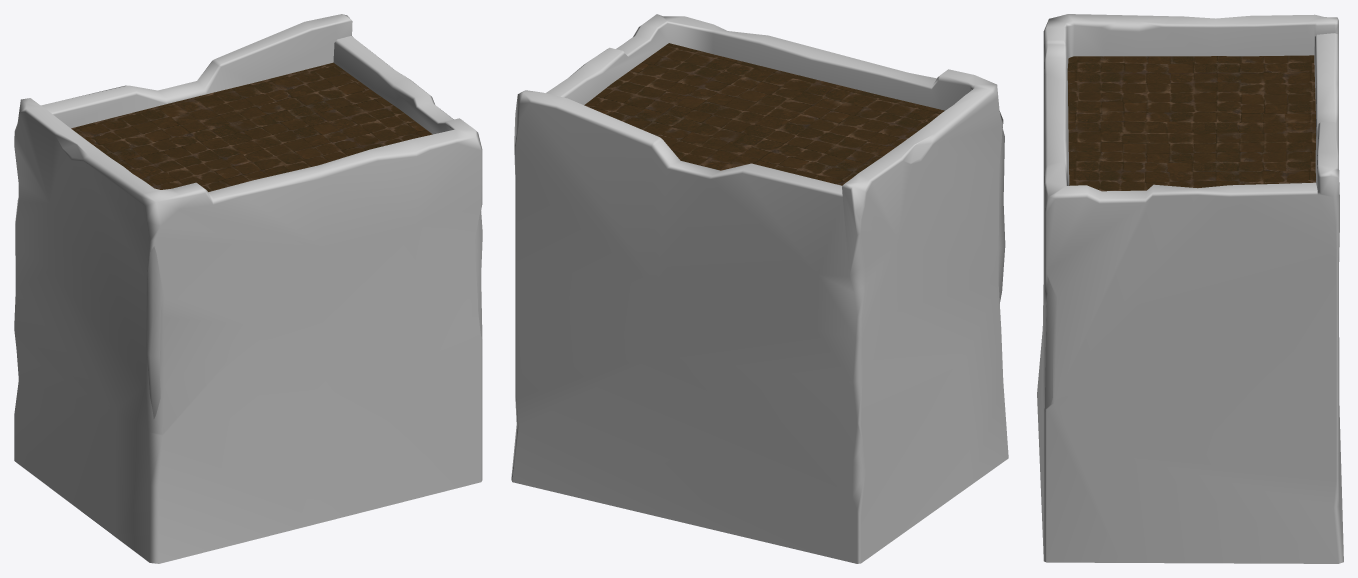
Rendered from lower_city_house_06.fbx.
The picture shows the model from 3 angles, left to right: view 1: azimuth 30°, elevation 25°; view 2: azimuth 150°, elevation 25°; view 3: azimuth 270°, elevation 25°; orthographic projection. The views are drawn at different scales.
Visible parts, largest first — view 1: lower_city_house_06; view 2: lower_city_house_06; view 3: lower_city_house_06.
Boxes of the visible parts, <box> form: lower_city_house_06: <box>14,14,482,563</box>; lower_city_house_06: <box>511,14,1008,563</box>; lower_city_house_06: <box>1037,14,1343,563</box>.
Bounding box in the file's own units: 6.62 × 6.94 × 4.96.
